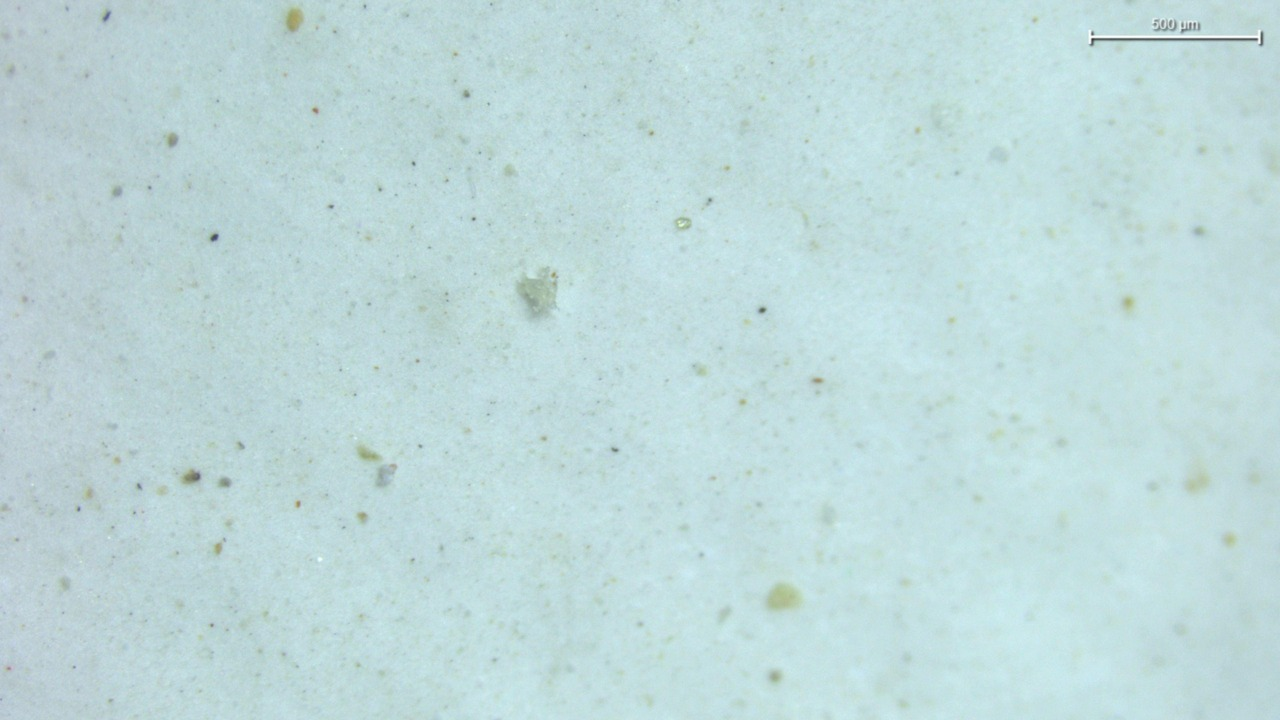microplastic_fragment: (517, 267, 558, 317)
